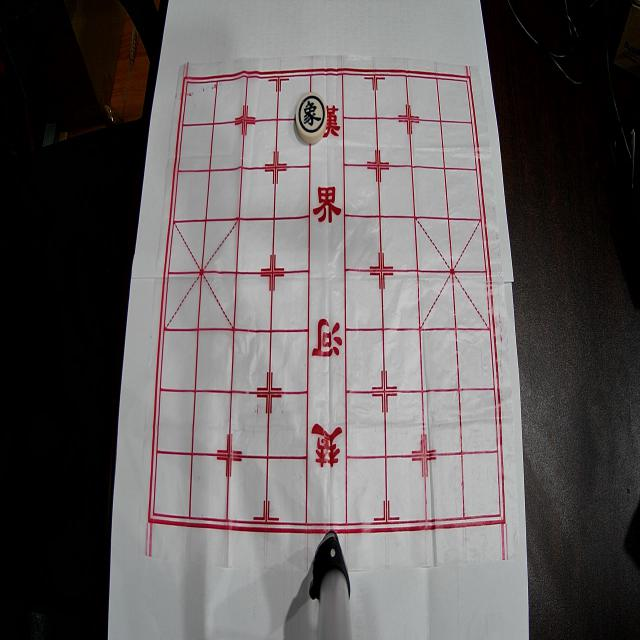black-elephant: (296, 92, 327, 144)
